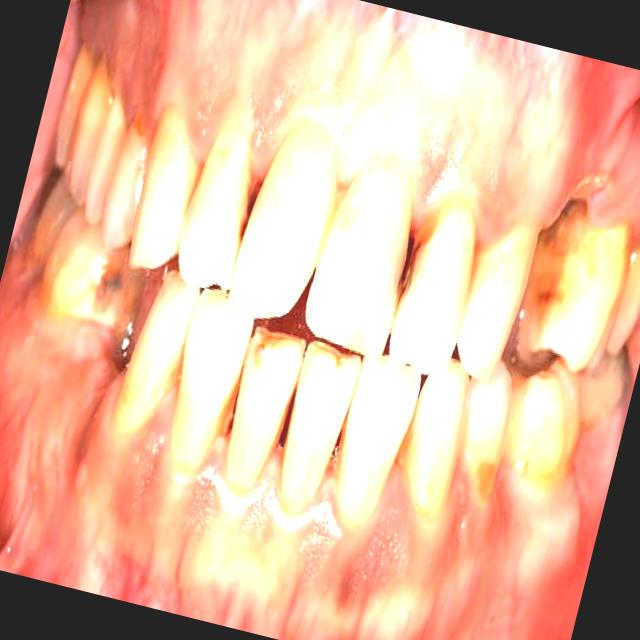calculus: (378, 192, 450, 302), (369, 413, 422, 503), (197, 366, 241, 456), (252, 386, 294, 474), (409, 476, 454, 546), (456, 456, 504, 520)
